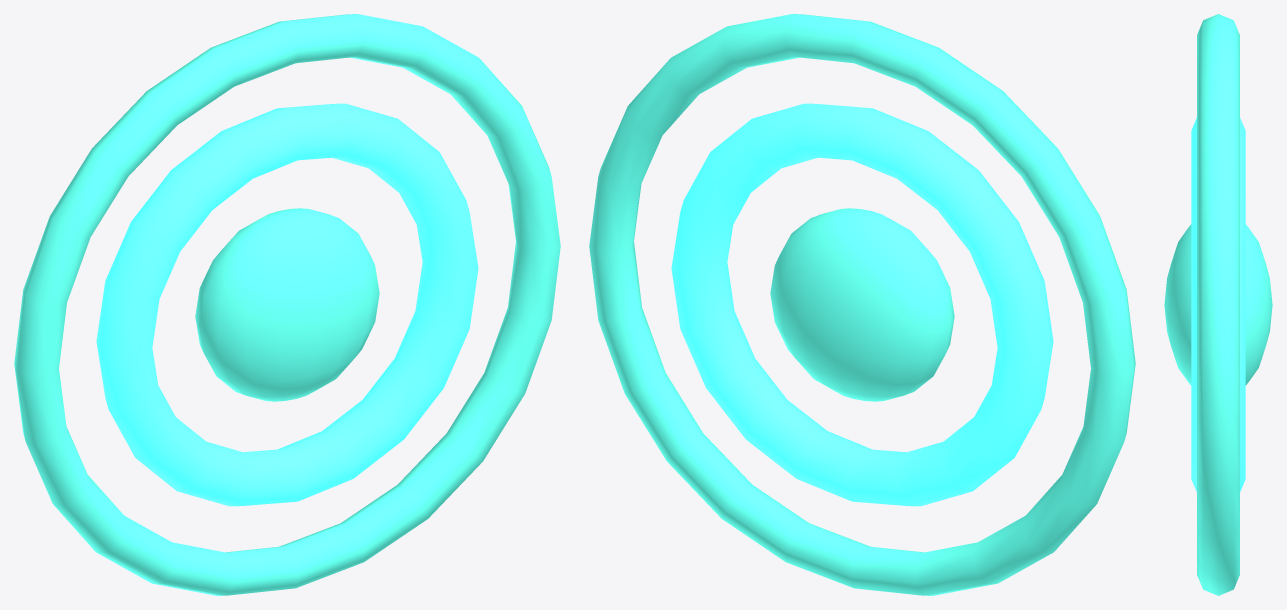
Rendered from Feedback_Listening.fbx.
3 renders of one model, left to right at view 1: azimuth 30°, elevation 25°; view 2: azimuth 150°, elevation 25°; view 3: azimuth 270°, elevation 25°, orthographic. The views are drawn at different scales.
Parts seen in each view (by area): view 1: FeedbackListening_Researcher_Teal, FeedbackListening_StatusCyan; view 2: FeedbackListening_Researcher_Teal, FeedbackListening_StatusCyan; view 3: FeedbackListening_Researcher_Teal, FeedbackListening_StatusCyan.
Part boxes in pixels (left/top/right/bottom): FeedbackListening_Researcher_Teal: left=14, top=14, right=560, bottom=595; FeedbackListening_StatusCyan: left=96, top=103, right=478, bottom=506; FeedbackListening_Researcher_Teal: left=589, top=14, right=1135, bottom=595; FeedbackListening_StatusCyan: left=671, top=103, right=1053, bottom=506; FeedbackListening_Researcher_Teal: left=1164, top=14, right=1272, bottom=595; FeedbackListening_StatusCyan: left=1191, top=118, right=1245, bottom=491.
Bounding box in the file's own units: 4.32 × 4.32 × 0.8.
